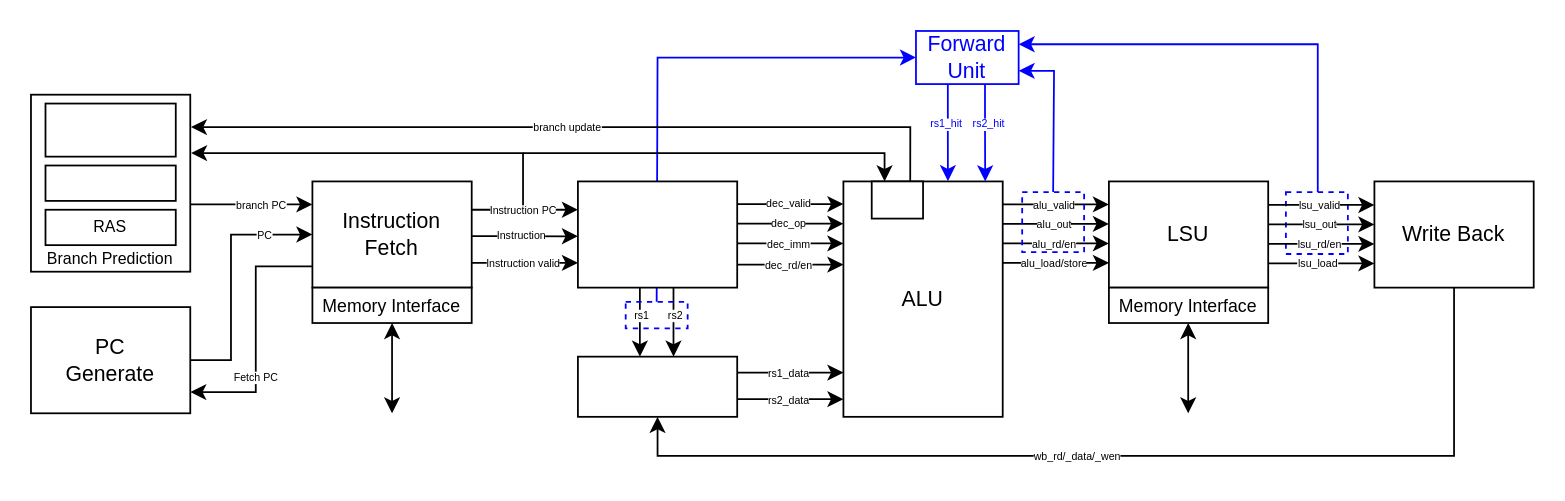
Some shapes in this 1565 by 501 pixel diagram are drawn without their labels. Each missing label, with the centre of its shape:
"BHT (gshare)" belongs at (110,129).
"Branch Unit" belongs at (896,199).
"BTB" belongs at (110,182).
"Decoder" belongs at (656,234).
"Register File" belongs at (656,386).
